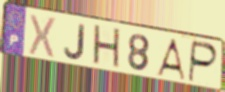8: (127, 33, 151, 73)
A: (154, 38, 187, 83)
H: (91, 23, 122, 72)
J: (63, 23, 87, 62)
P: (186, 39, 220, 85)
X: (28, 13, 58, 61)
